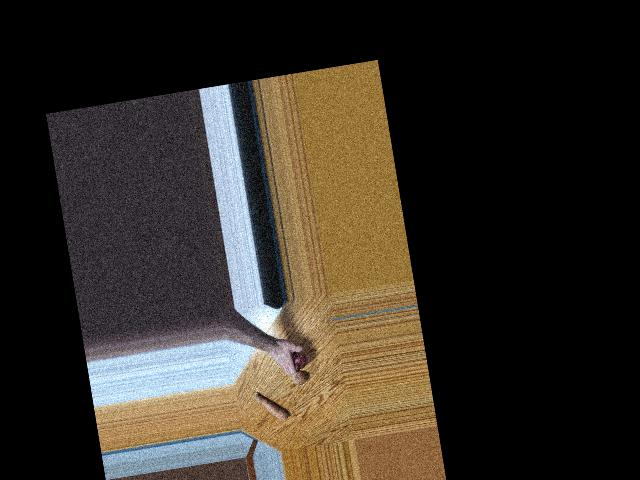onion: (289, 369, 308, 387)
